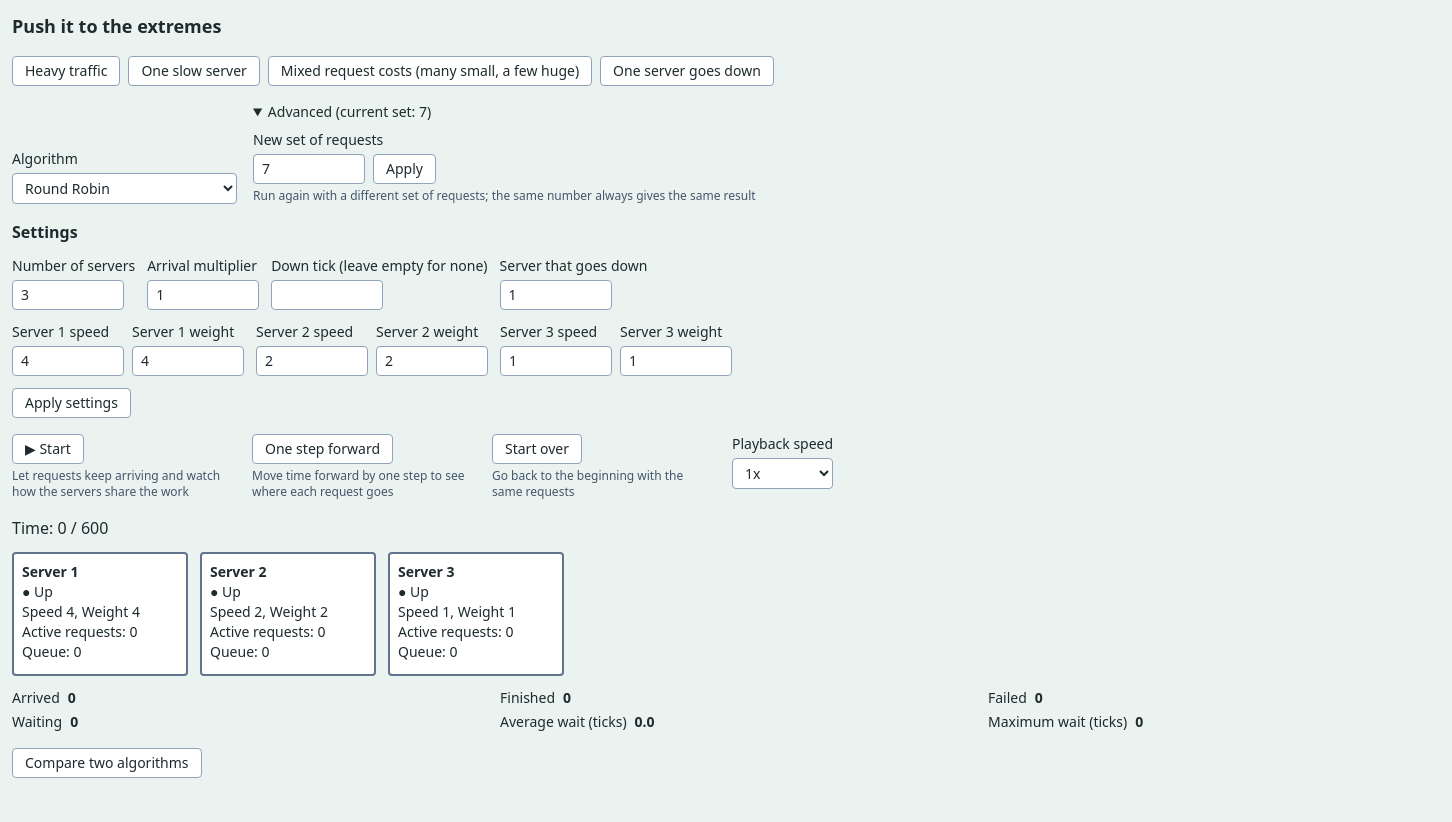
it: Advanced seed area › T1: stays open after applying a new seed and shows it in the summary
Replace the text in the number field labelled "New set of requests" with "42" at x=309, y=169, box [253,154,365,184]
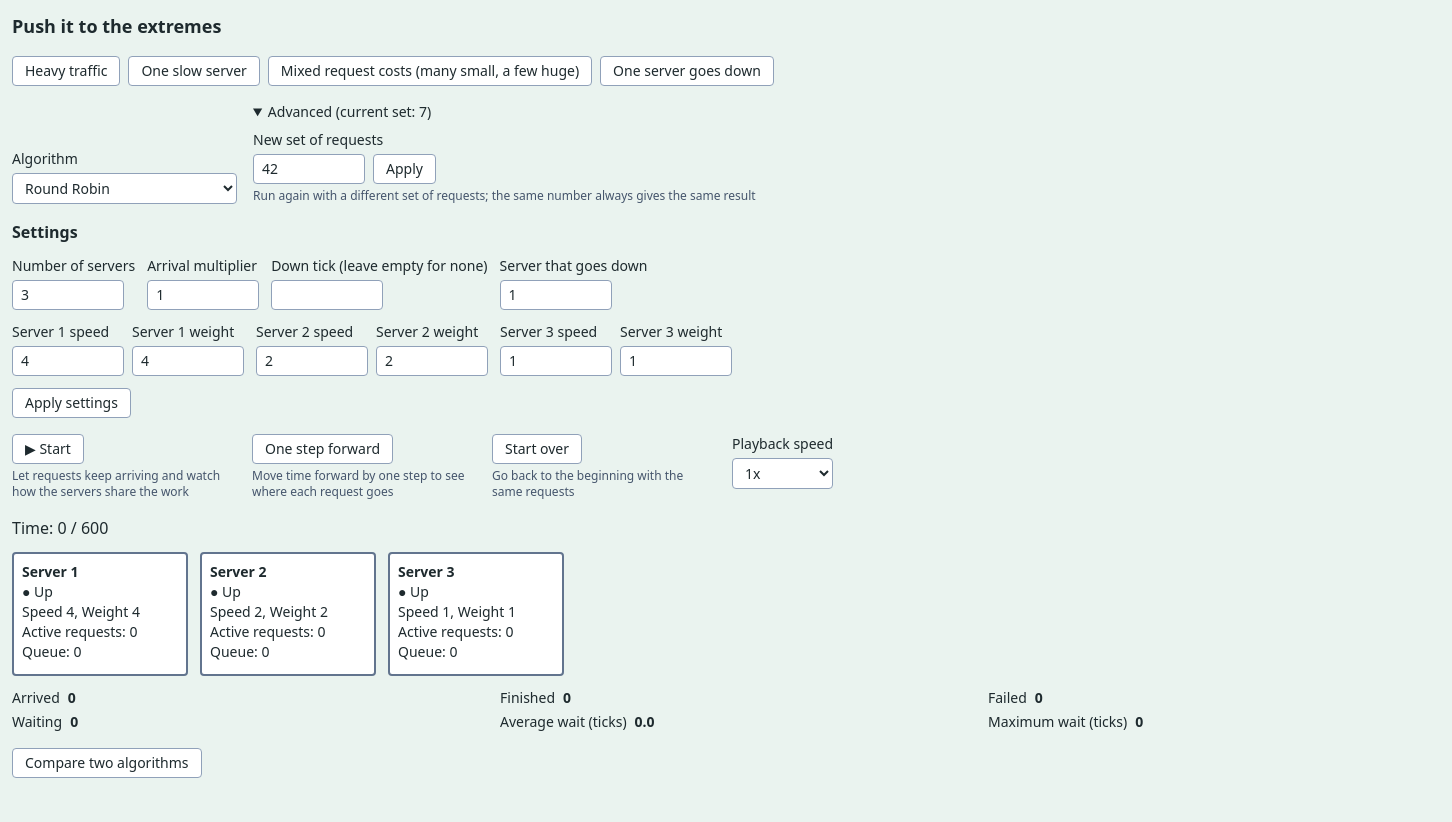
Click the button "Apply".
click(404, 169)  # box [373,154,436,184]
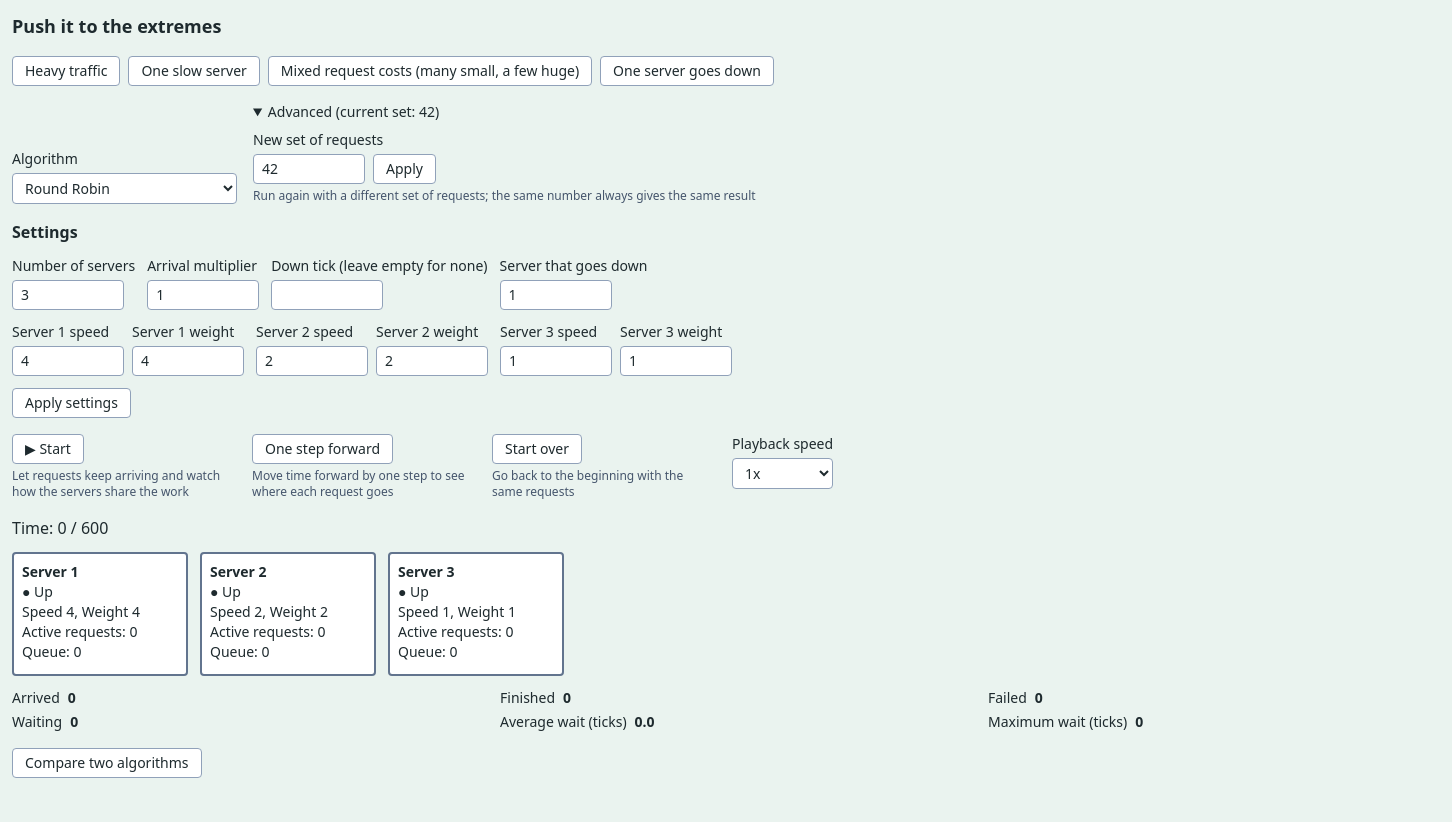
Expected: the number field labelled "New set of requests" holds "42", [253,154,365,184]
Expected: the heading "Advanced (current set: 42)" is shown, [268,102,439,121]
